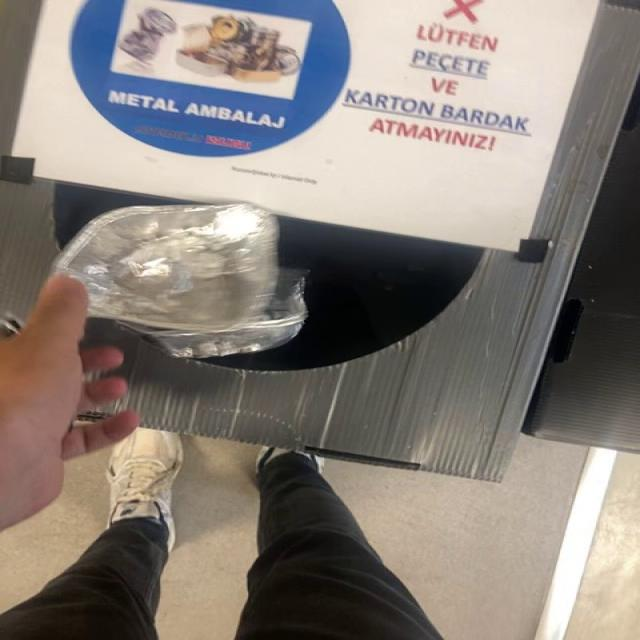metal: (53, 203, 305, 358)
